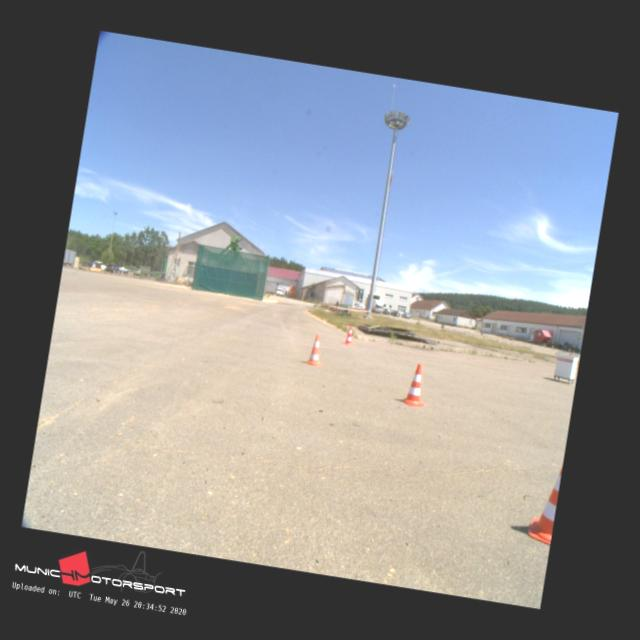large_orange_cone: (526, 458, 564, 544), (402, 363, 430, 406), (306, 334, 325, 365), (344, 326, 355, 346)
